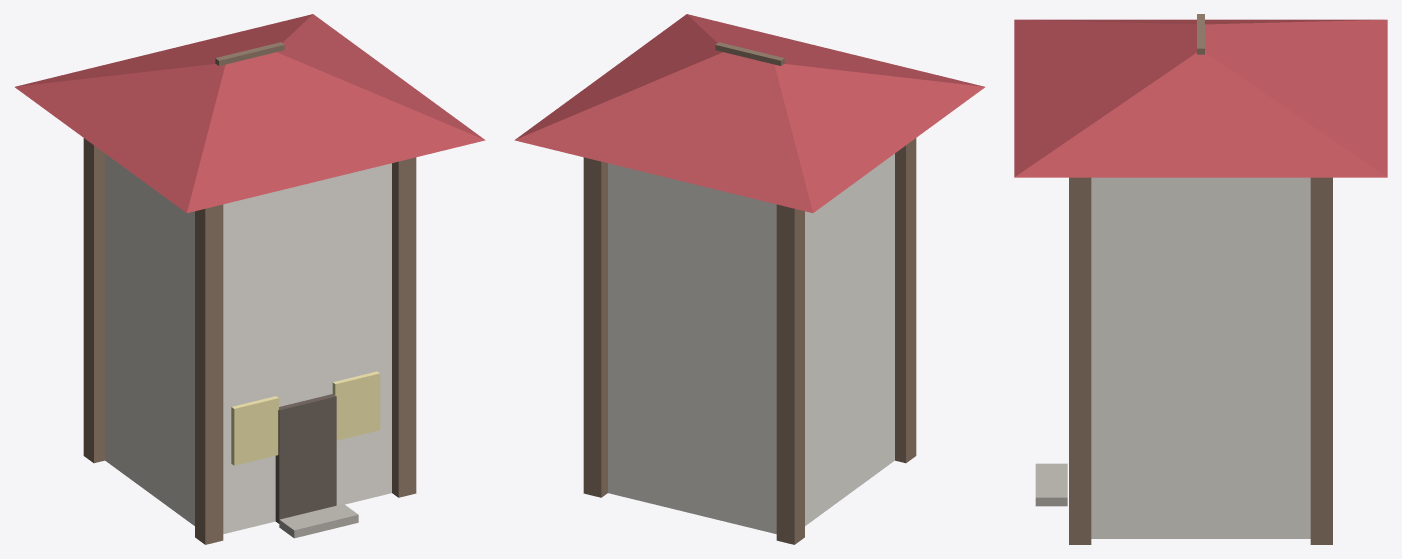
The model's file is tower_a.glb.
3 renders of one model, left to right at view 1: azimuth 30°, elevation 25°; view 2: azimuth 150°, elevation 25°; view 3: azimuth 270°, elevation 25°, orthographic. The views are drawn at different scales.
Size of the model in its own units: 4.68 by 6.33 by 4.68.
